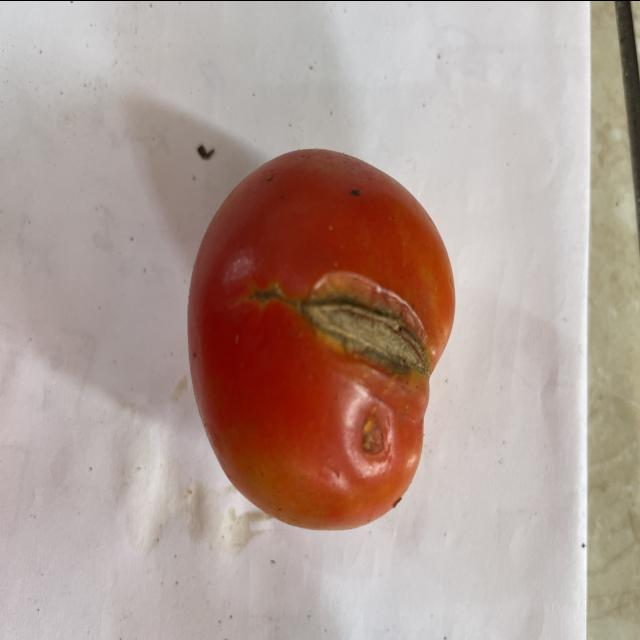tomato_cracking: (279, 259, 433, 383)
